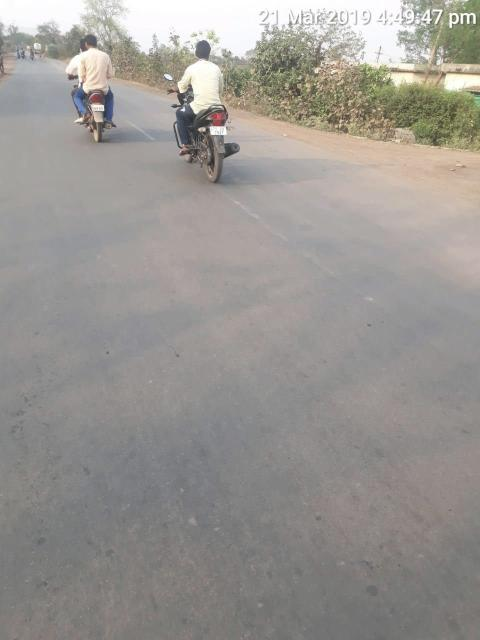motor: (164, 73, 242, 185), (66, 72, 115, 145)
non-helm: (195, 41, 213, 63), (80, 35, 99, 53)
